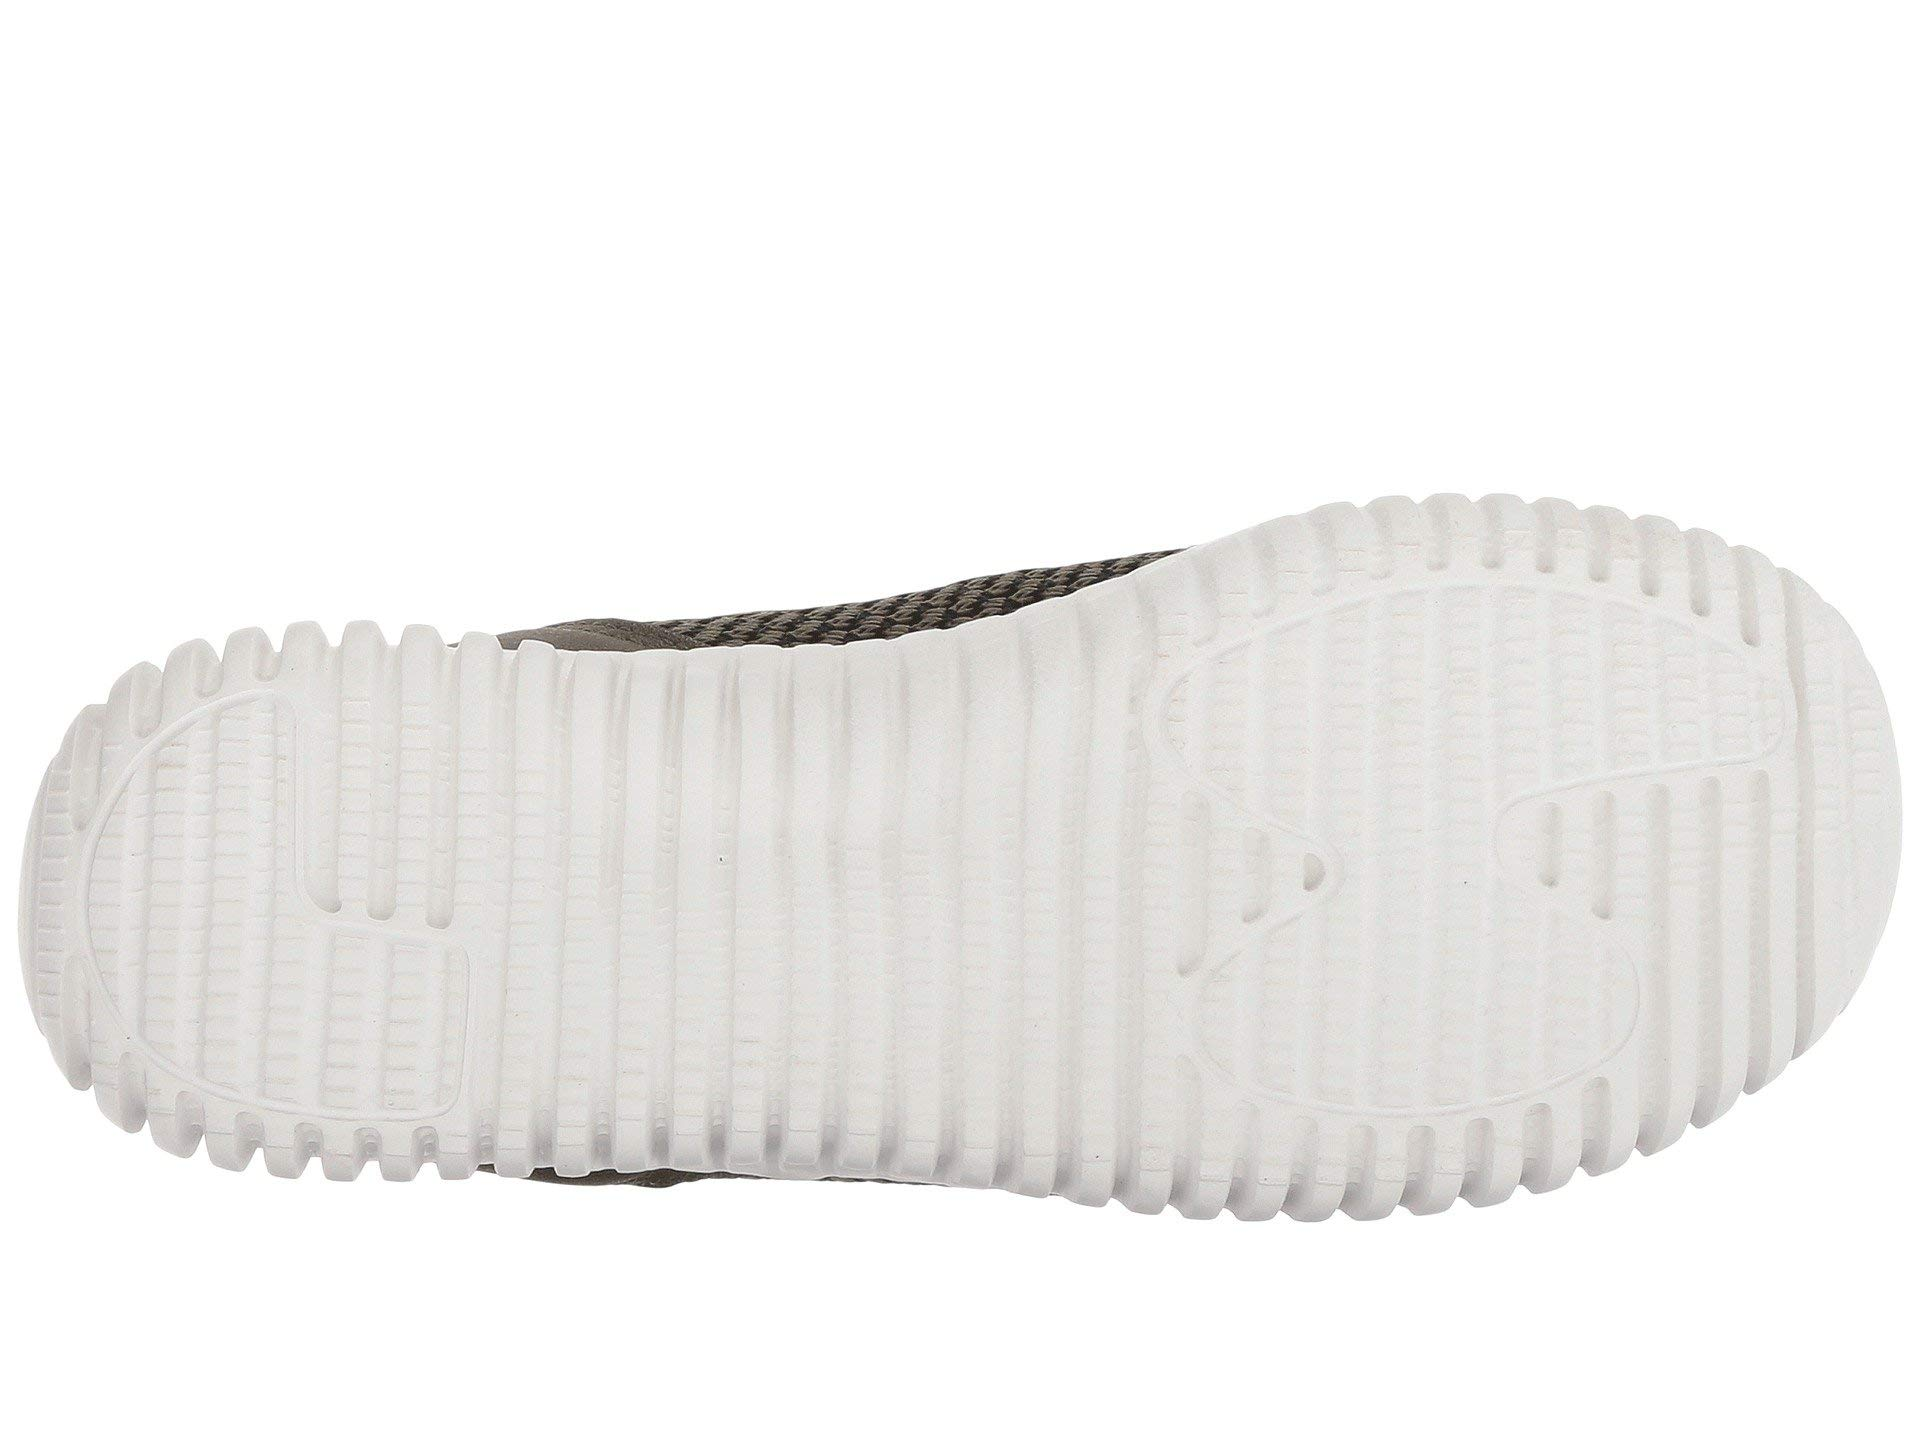quad: (74, 759, 481, 1083)
